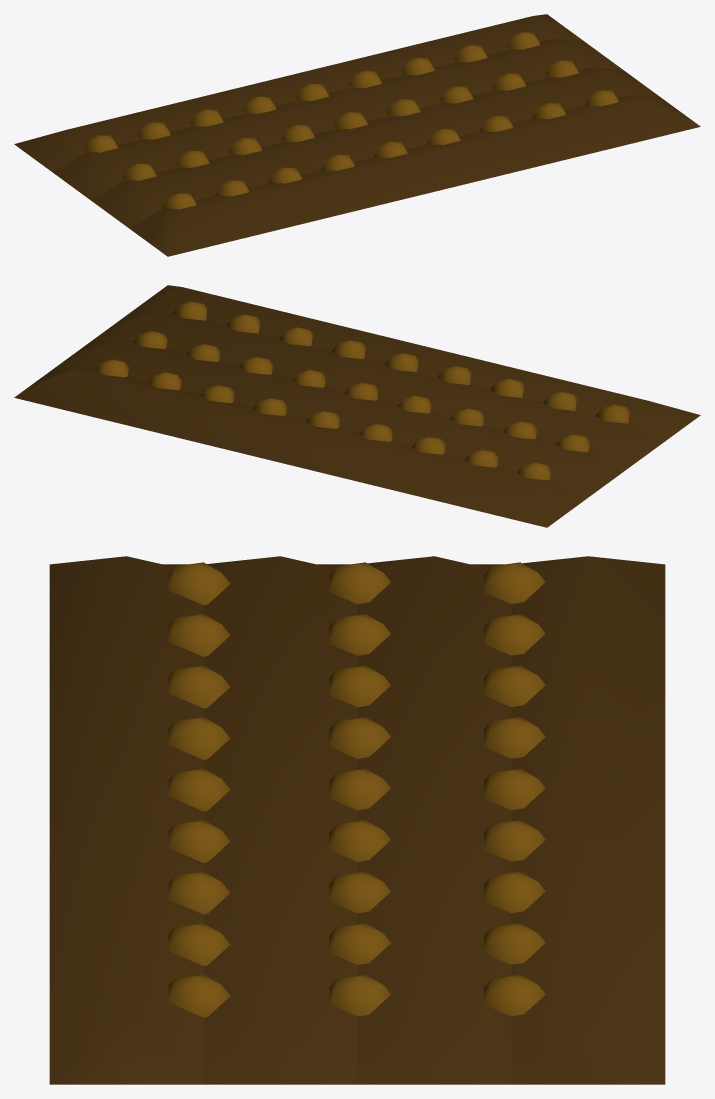
File: Crops.fbx
The picture shows the model from 3 angles, top to bottom: view 1: azimuth 30°, elevation 25°; view 2: azimuth 150°, elevation 25°; view 3: azimuth 270°, elevation 25°; orthographic projection. The views are drawn at different scales.
Parts seen in each view (by area): view 1: Field; view 2: Field; view 3: Field.
Part boxes in pixels (x1,y1,x2,y2): Field: (14,14,700,256); Field: (14,285,700,527); Field: (49,556,665,1084).
Bounding box in the file's own units: 640 × 27.59 × 320.
